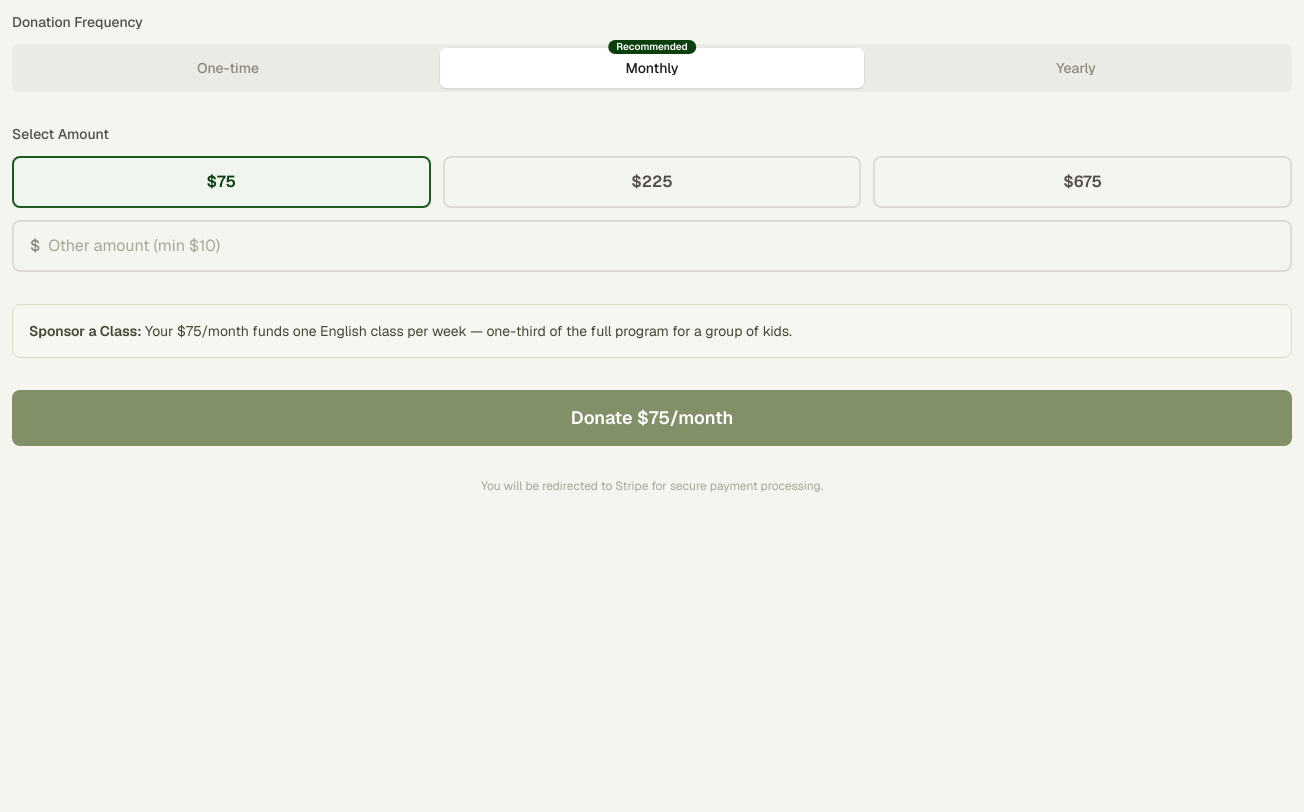
DonationForm › form submission › shows error when fetch throws
Click the button "Donate $75/month".
click(652, 418)  # box [12,390,1292,446]
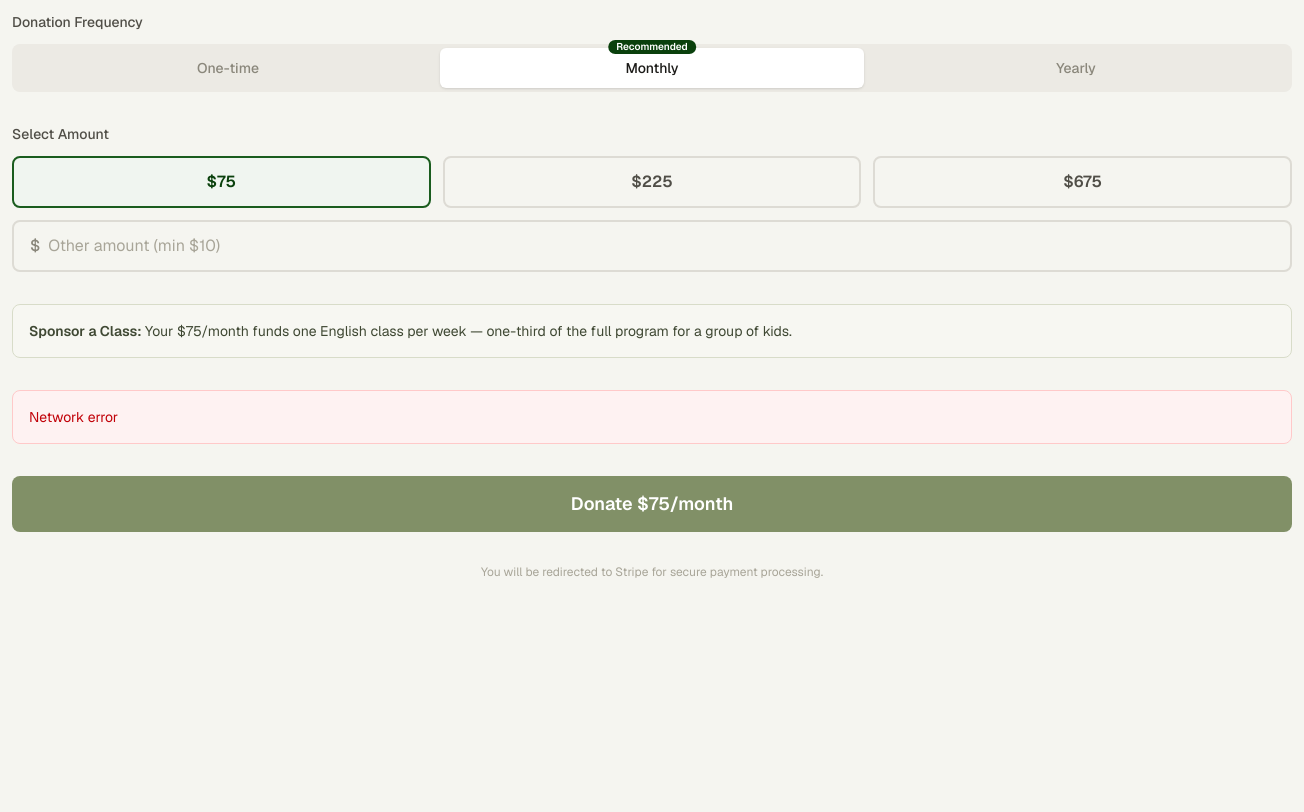
Now the text "Network error" is shown, box [12,390,1292,444]
